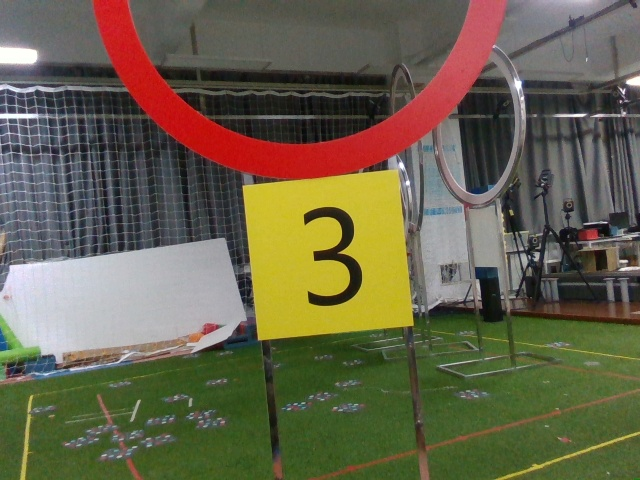target: (249, 183, 411, 321)
